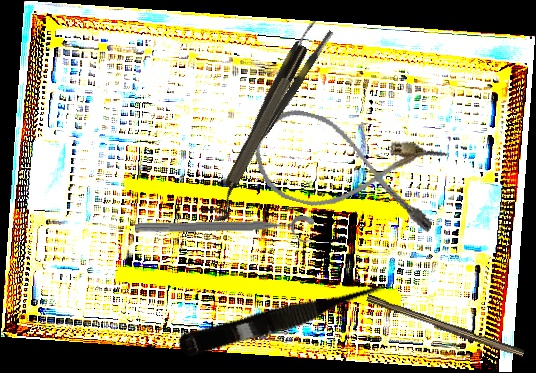Cannula: (245, 102, 452, 237)
Fixation Ring: (201, 41, 319, 227), (134, 215, 315, 247)
Micro Scissor: (175, 275, 396, 364)
Scalpel Handle: (364, 294, 526, 360)
Tissue Forceps: (209, 18, 335, 190)
